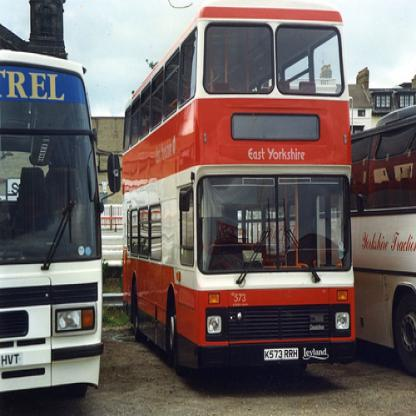bus: (120, 5, 360, 378), (249, 99, 415, 378), (0, 47, 122, 405)
